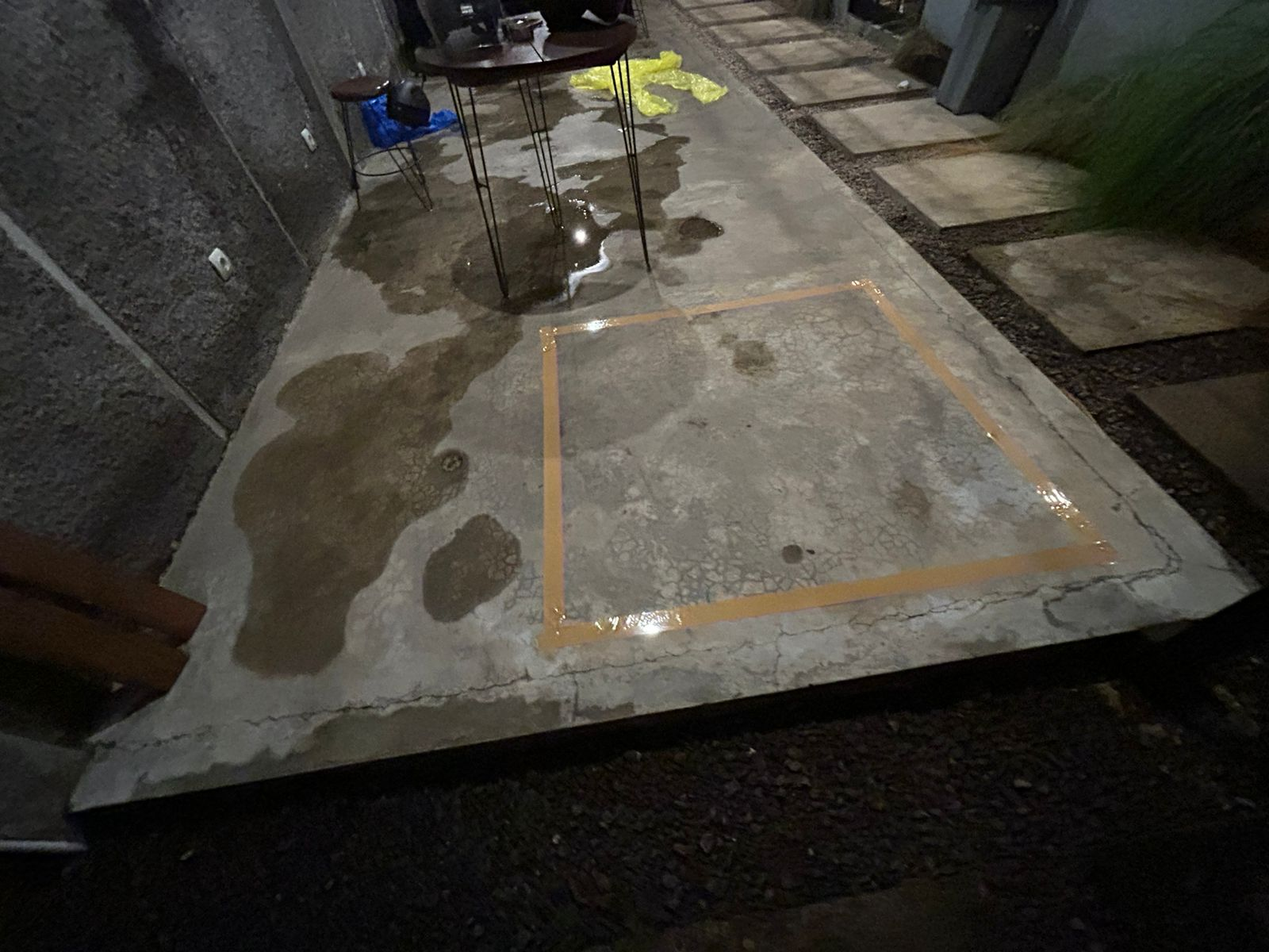floor marking: (538, 278, 1115, 650)
